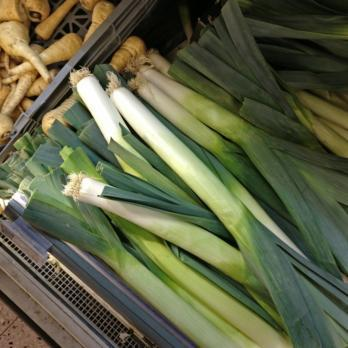Leek Leaves: (22, 130, 348, 348), (59, 86, 348, 281), (118, 0, 348, 152)
